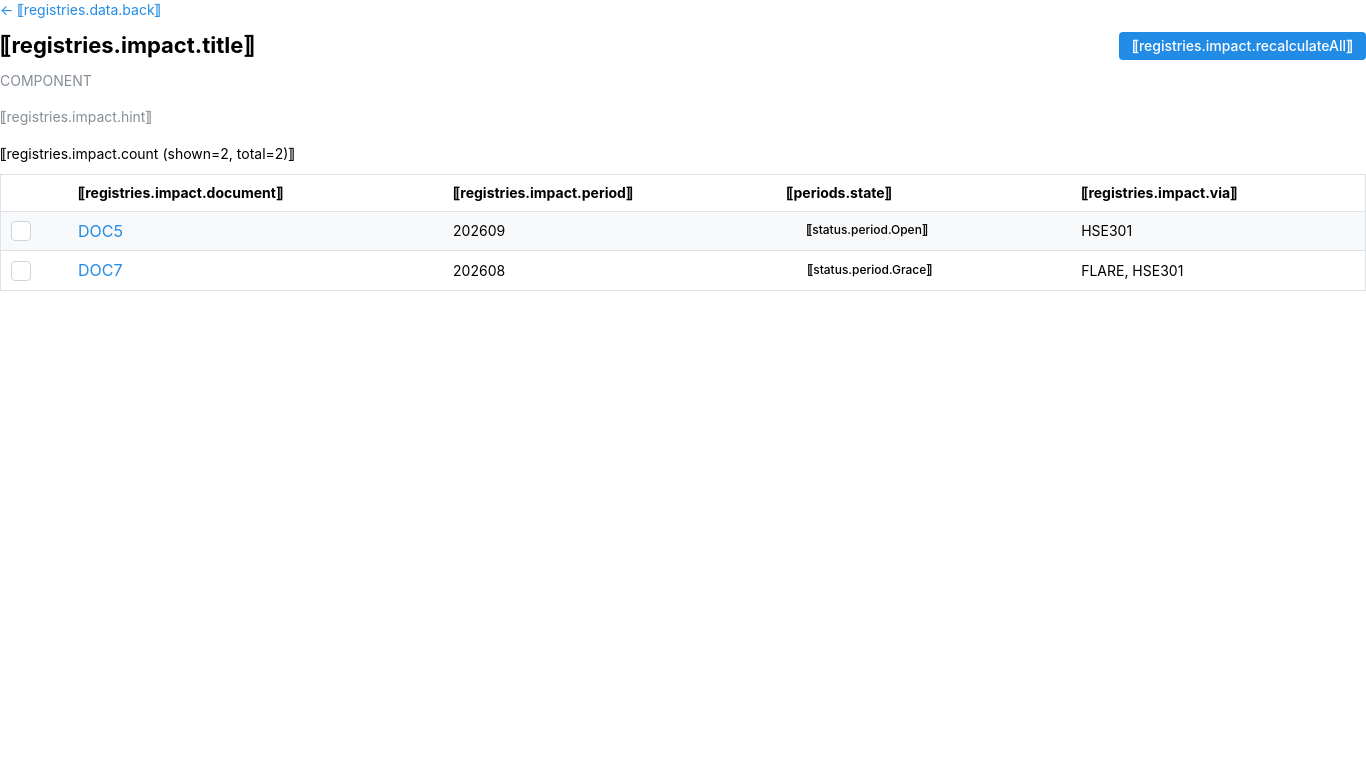
Test: RegistryImpactPage: зачеплені документи і їх перерахунок › бейдж стану — похідний стан розкладу: з помилками не читається як «Succeeded»
The image size is (1366, 768).
Expected: the link "DOC5" is shown, [78,221,123,241]
Click the button "⟦registries.impact.recalculateAll⟧" at (1242, 46), box [1119,32,1365,60]
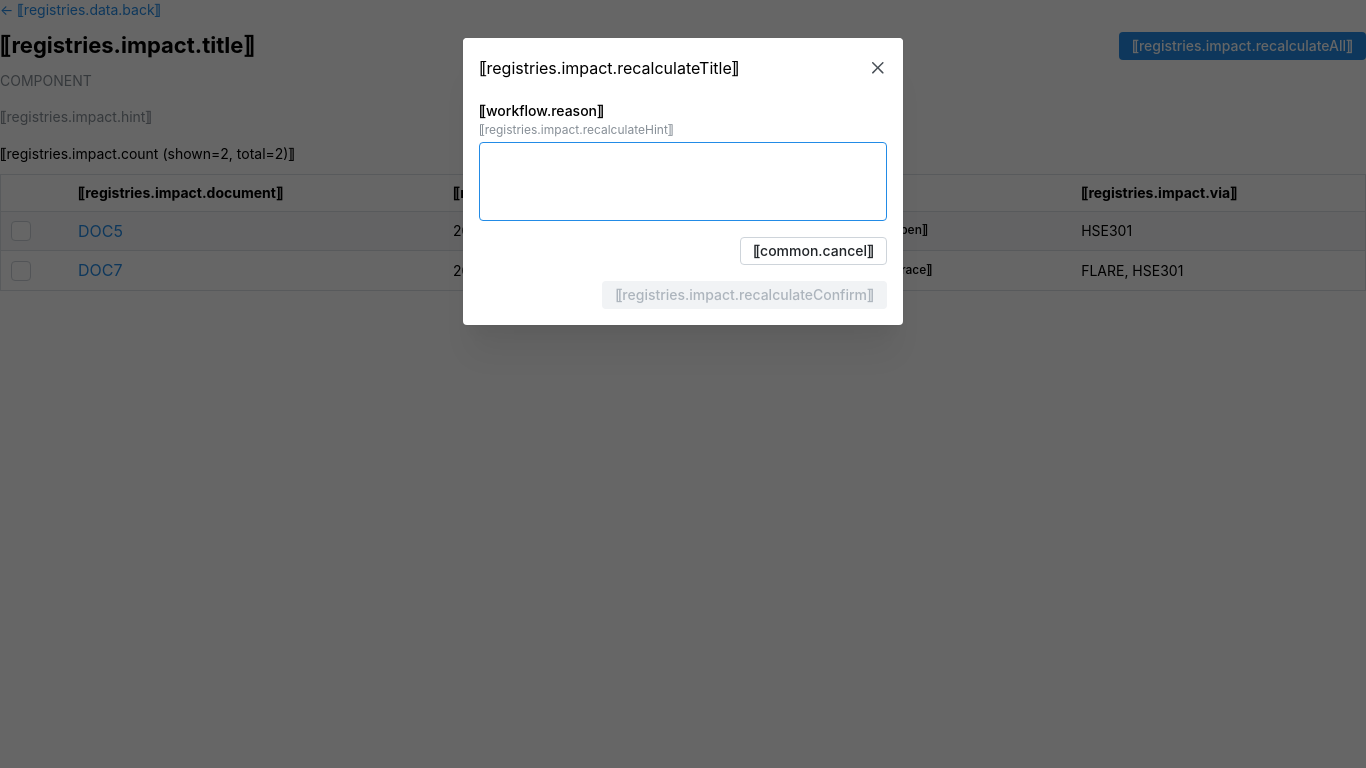
Type "причина" into the text box at (683, 182), box [479,143,887,222]
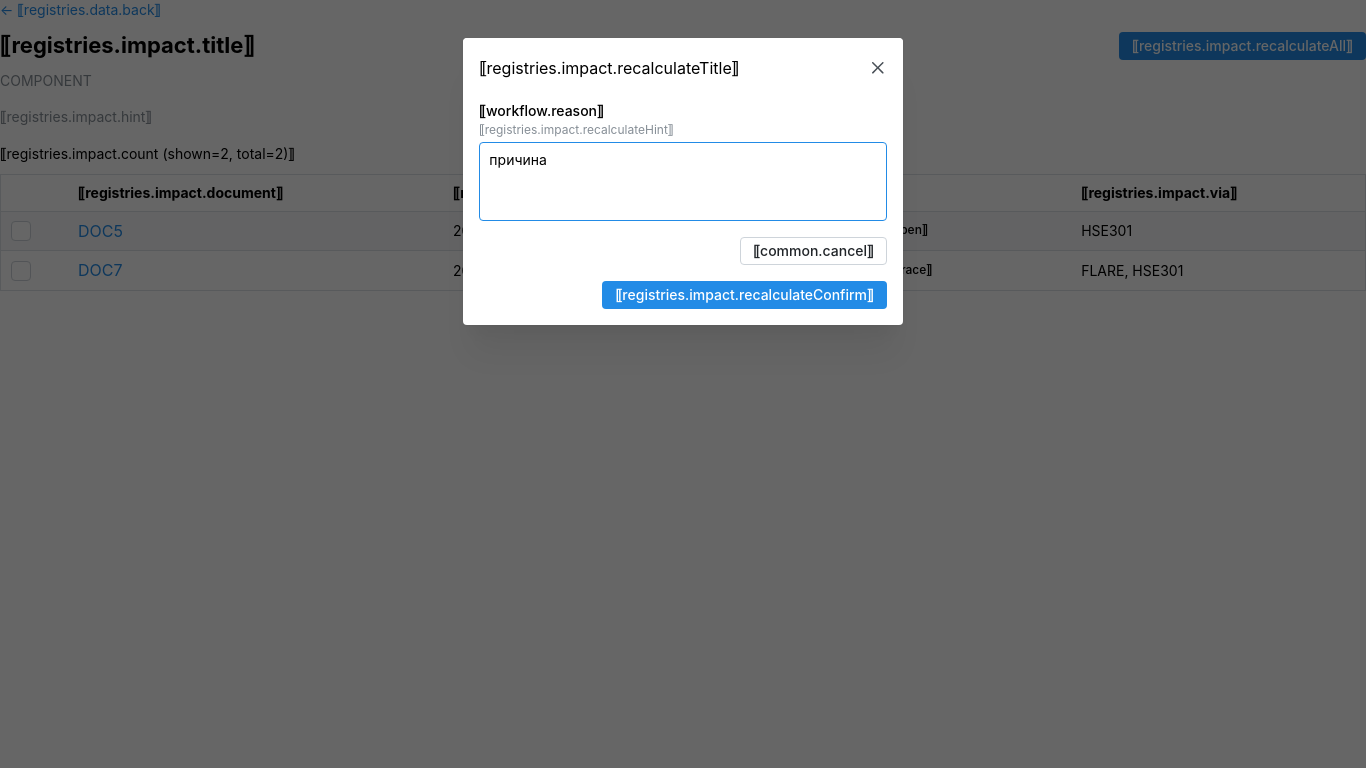
Click the button "⟦registries.impact.recalculateConfirm⟧" at (745, 296), box [602,282,887,310]
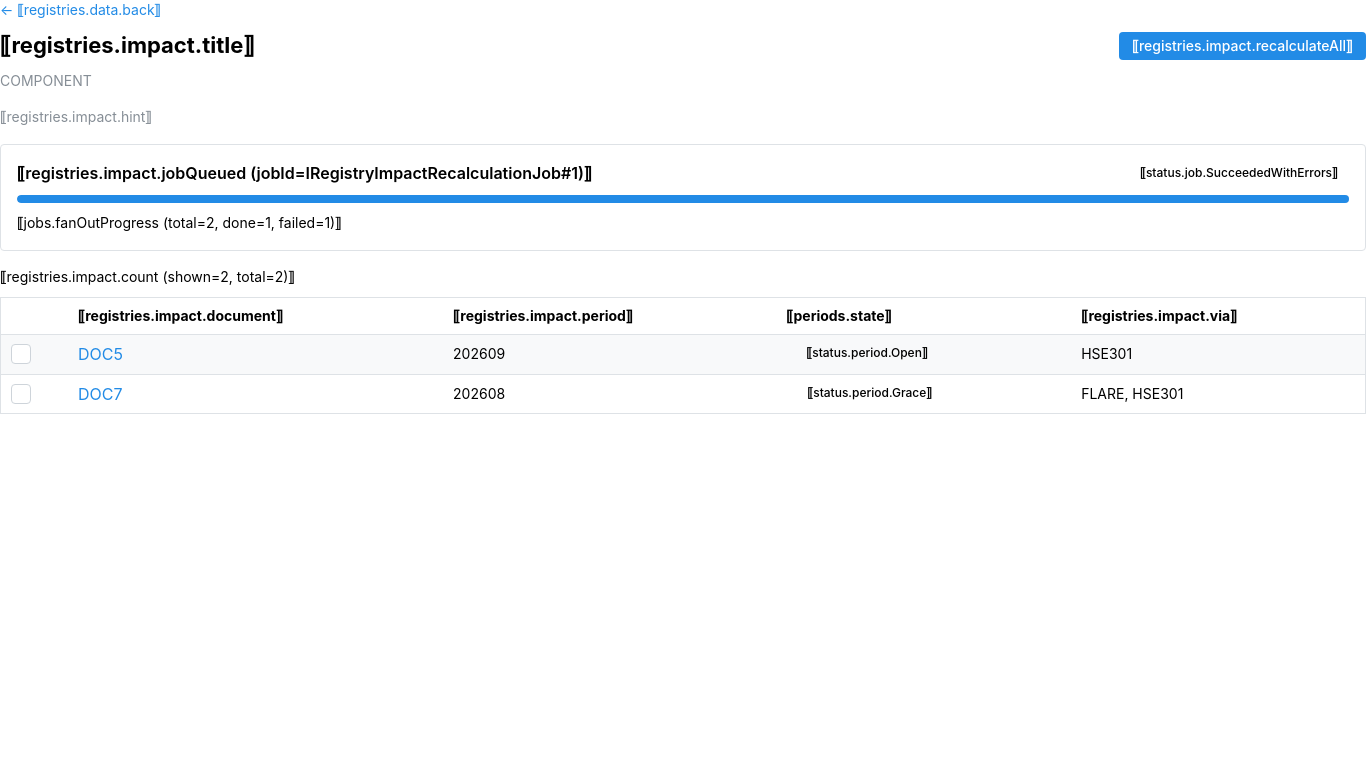
Result: the text "⟦status.job.SucceededWithErrors⟧" is shown at [1140,165,1338,181]
